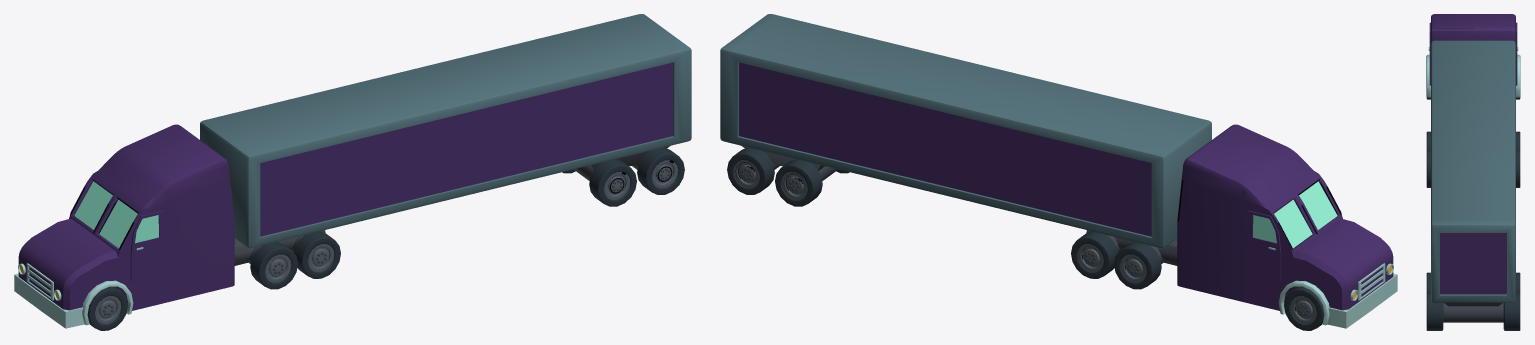
Rendered from Semi_Truck.fbx.
3 renders of one model, left to right at view 1: azimuth 30°, elevation 25°; view 2: azimuth 150°, elevation 25°; view 3: azimuth 270°, elevation 25°, orthographic. The views are drawn at different scales.
Visible parts, largest first — view 1: Trailer, SemiBody; view 2: Trailer, SemiBody; view 3: Trailer, SemiBody.
Boxes of the visible parts, x1,y1,x2,y2 form: Trailer: (200, 14, 691, 247); SemiBody: (14, 124, 340, 330); Trailer: (720, 14, 1211, 247); SemiBody: (1071, 124, 1397, 330); Trailer: (1426, 40, 1520, 330); SemiBody: (1426, 14, 1520, 187).
Bounding box in the file's own units: 2976 × 635 × 454.
